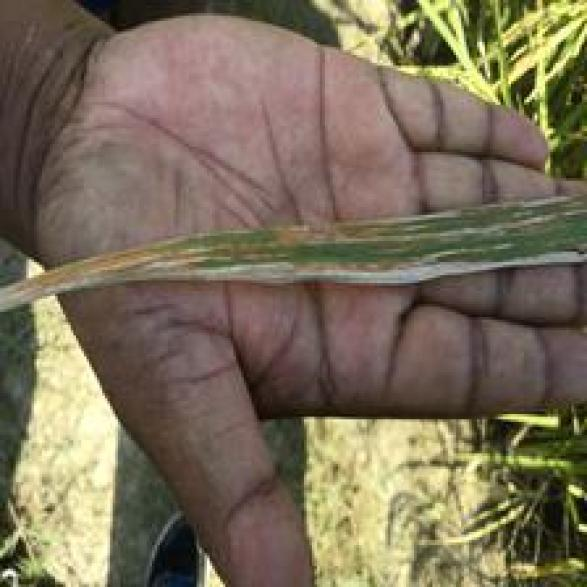Bacteria_Leaf_Blight: (21, 191, 576, 283)
